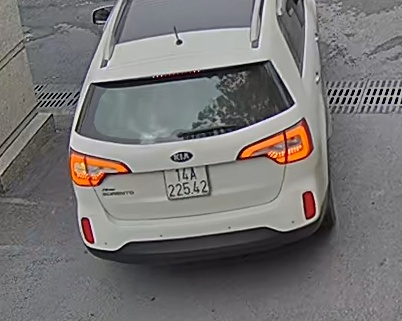vehicle plate: (160, 163, 215, 200)
